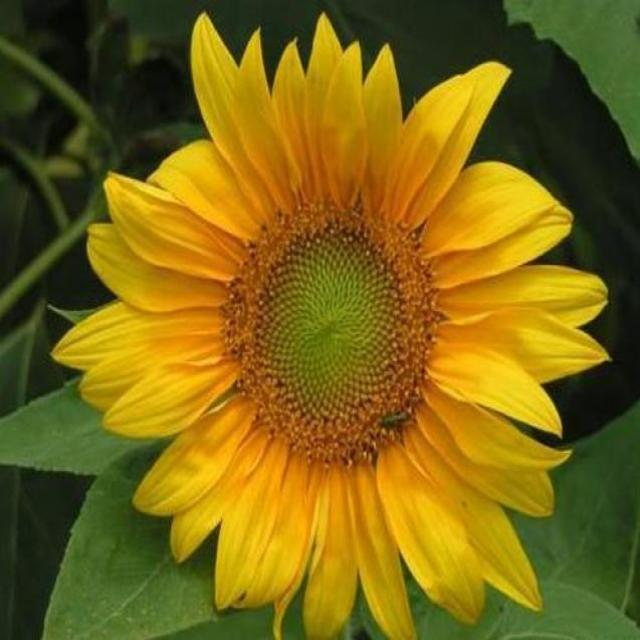sunflower: (46, 13, 617, 640)
